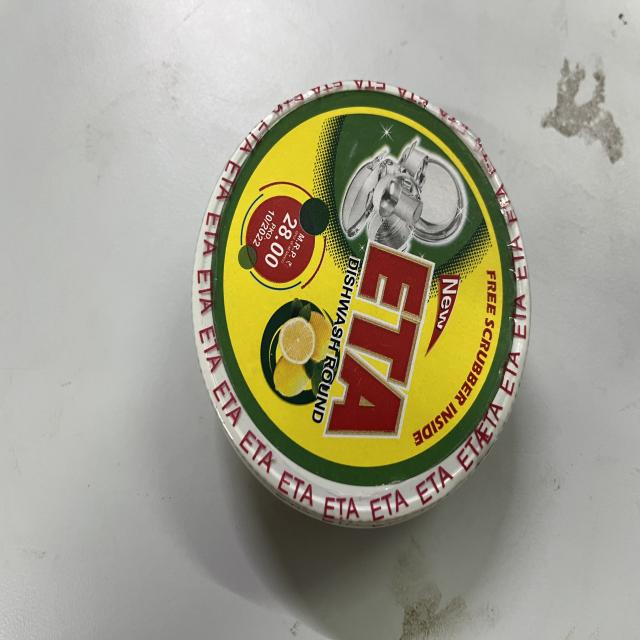L2: (193, 79, 532, 532)
